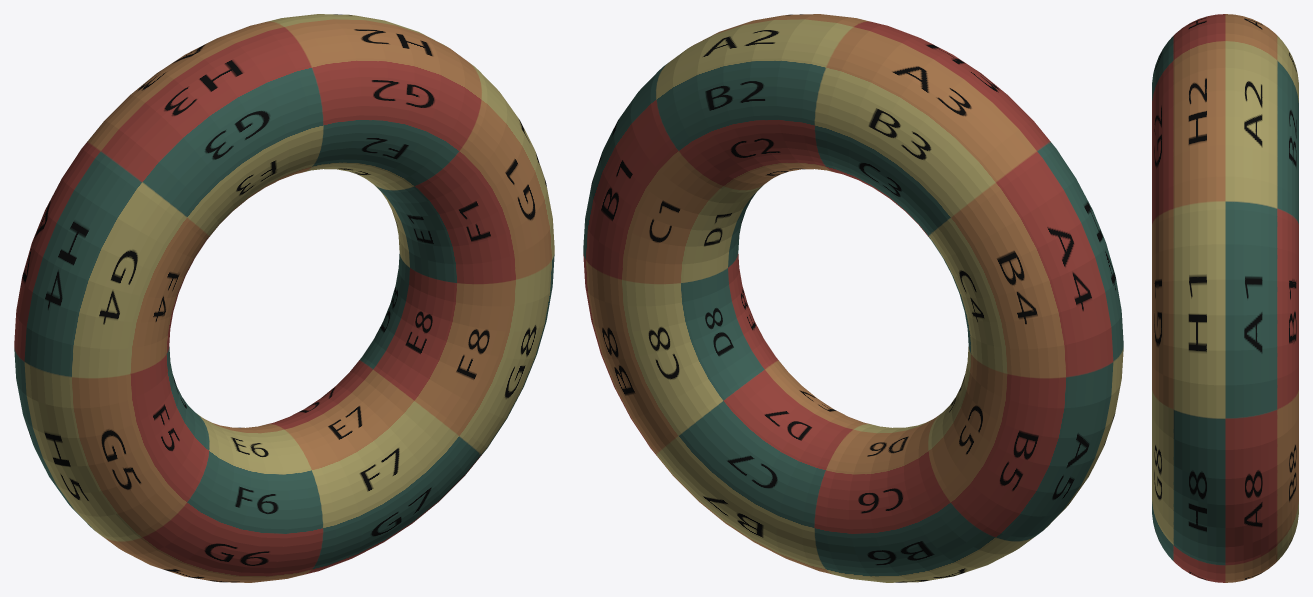
Rendered from texture_torus_R28_r30.glb.
3 views of the same model, side by side, from view 1: azimuth 30°, elevation 25°; view 2: azimuth 150°, elevation 25°; view 3: azimuth 270°, elevation 25° (orthographic). The views are drawn at different scales.
Parts seen in each view (by area): view 1: world; view 2: world; view 3: world.
Part boxes in pixels (left/top/right/bottom): world: left=14, top=14, right=554, bottom=582; world: left=583, top=14, right=1123, bottom=582; world: left=1152, top=14, right=1298, bottom=582.
Size of the model in its own units: 38.67 by 38.59 by 9.98.
Materials: 1 (1 with a texture image).
